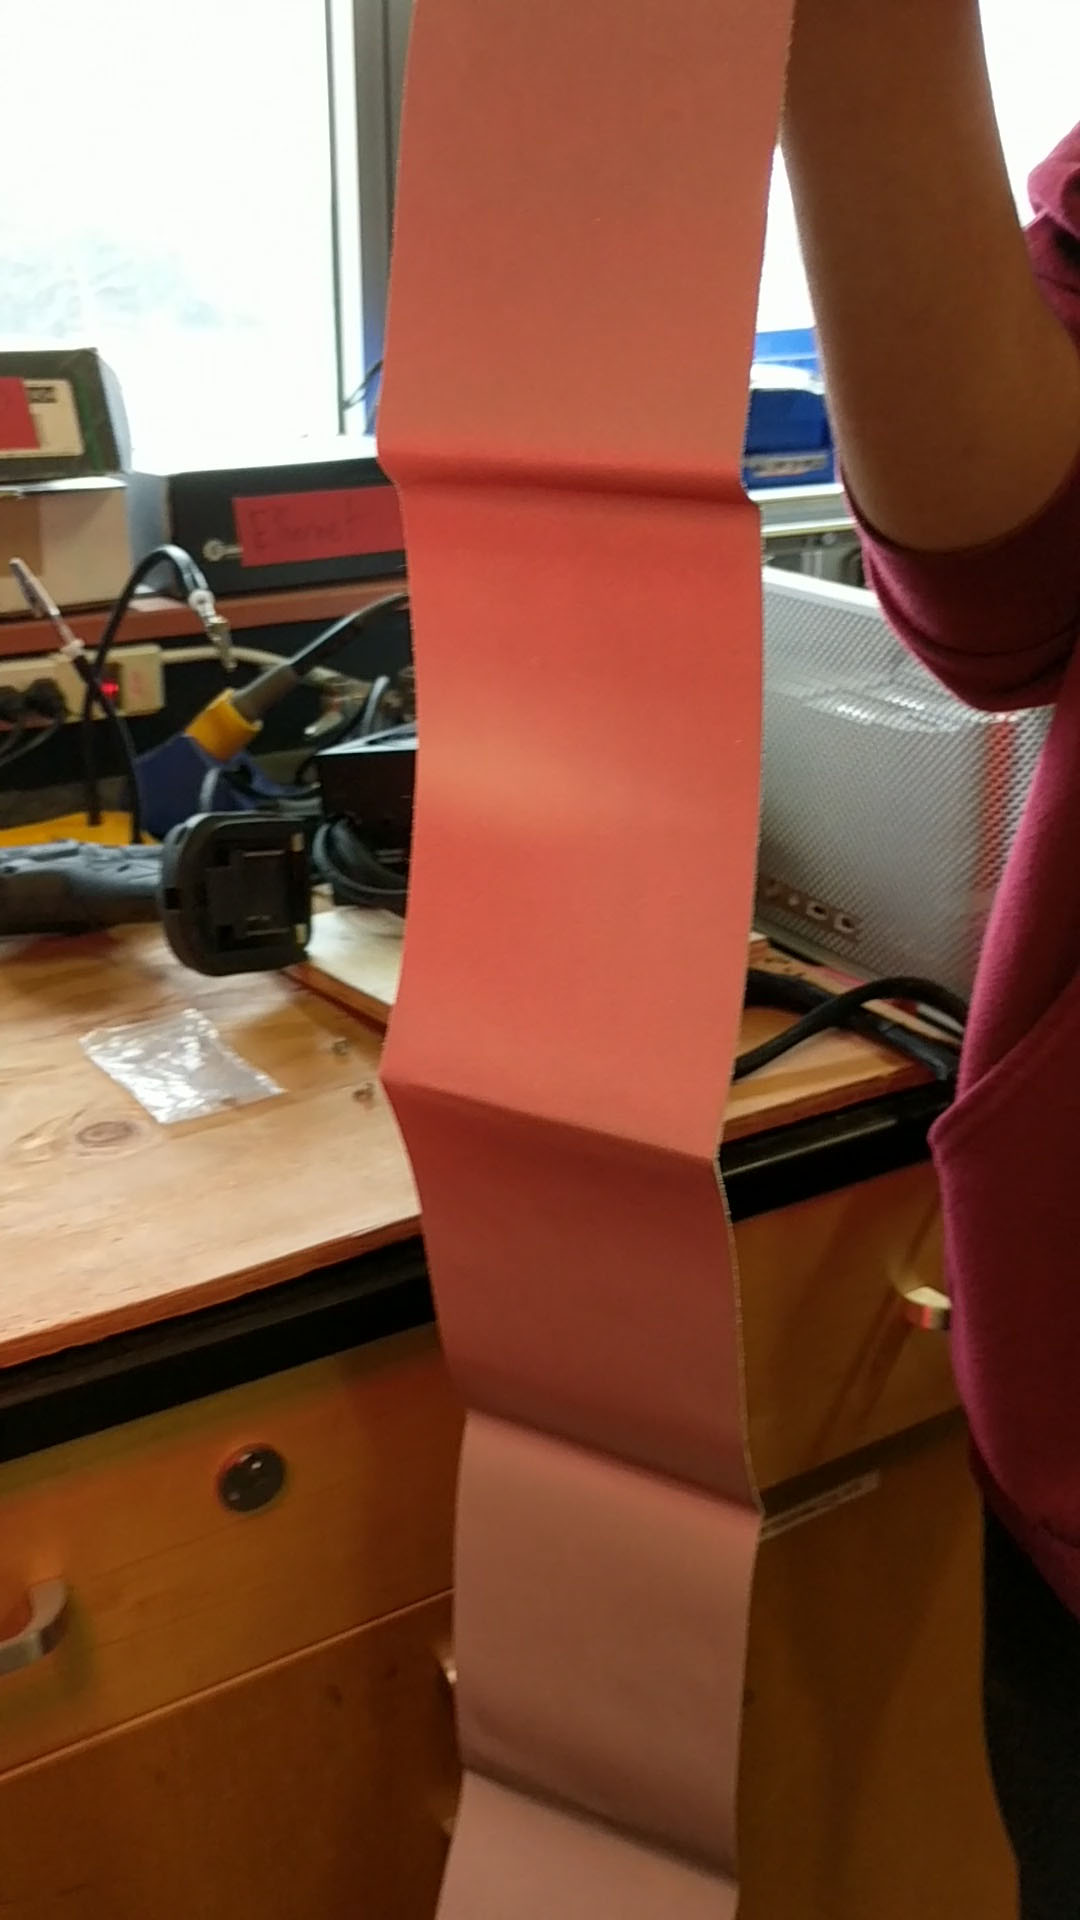gear: (376, 0, 767, 1920)
